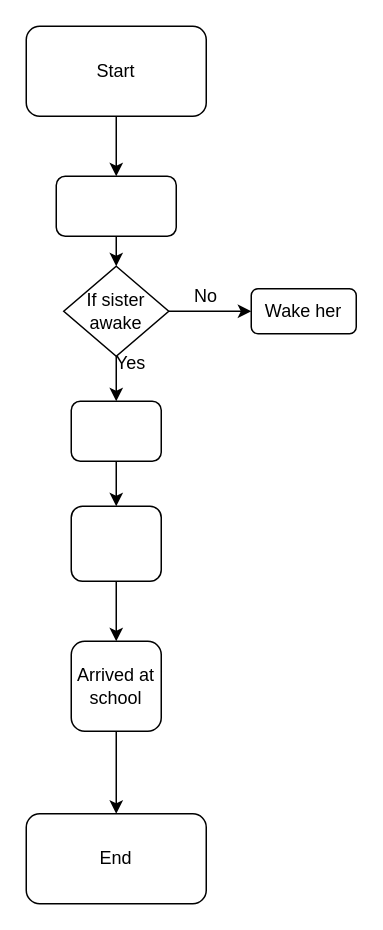
Some shapes in this 383 by 930 pixel diagram are drawn without their labels. Here are the shapes that lost their labels. From the top down, the centre of each, then its label:
At pixel 115 205: "Shower".
At pixel 115 430: "Eat breakfast".
At pixel 115 543: "Get in car".
